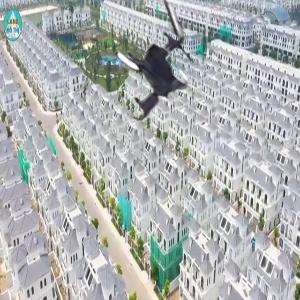drone: (101, 14, 213, 126)
